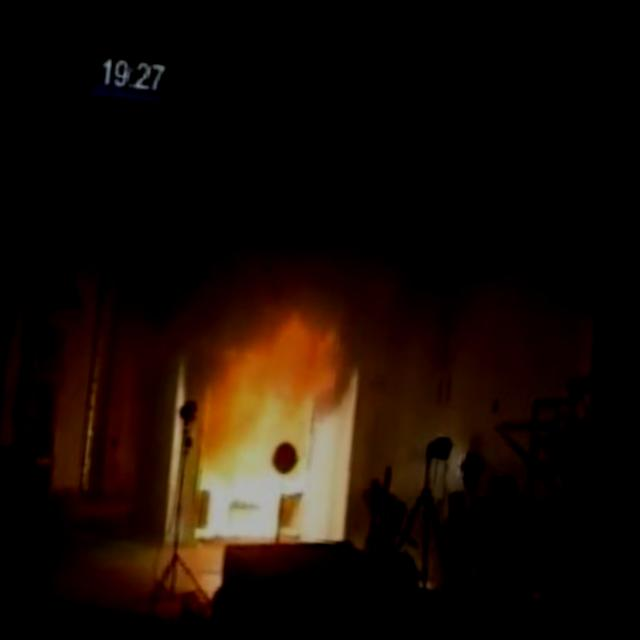fire: (140, 264, 358, 529)
smoke: (4, 0, 640, 386)
